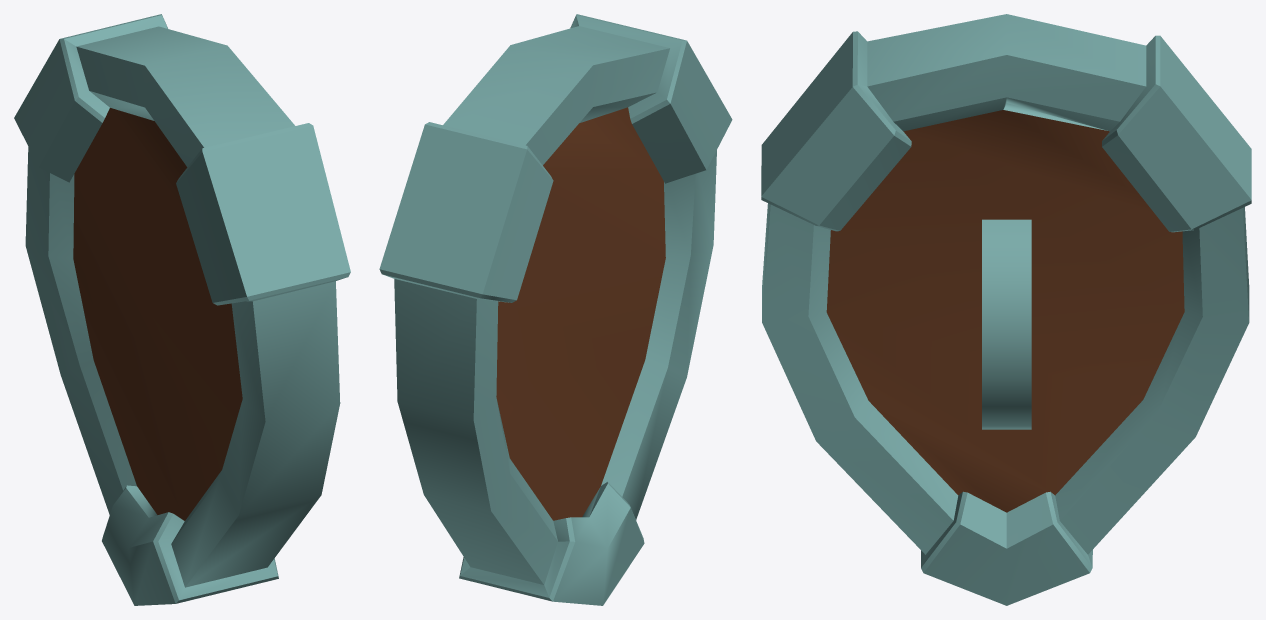
Rendered from shield.fbx.
3 renders of one model, left to right at view 1: azimuth 30°, elevation 25°; view 2: azimuth 150°, elevation 25°; view 3: azimuth 270°, elevation 25°, orthographic.
Visible parts, largest first — view 1: Shield; view 2: Shield; view 3: Shield.
Part boxes in pixels (left/top/right/bottom): Shield: left=14, top=14, right=350, bottom=605; Shield: left=379, top=14, right=732, bottom=605; Shield: left=761, top=14, right=1251, bottom=605.
Bounding box in the file's own units: 52.38 × 20.74 × 64.33.
